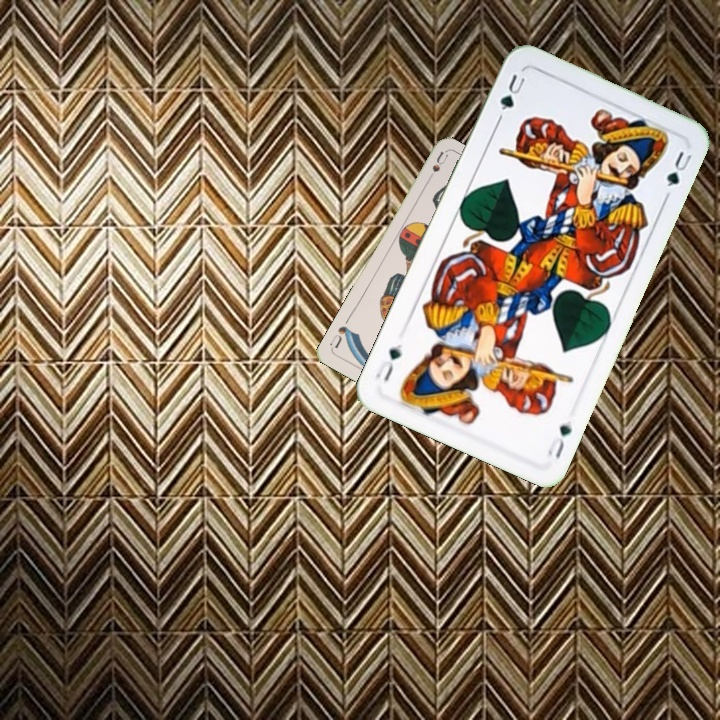GU: (495, 70, 528, 115), (543, 416, 574, 462)
SU: (422, 148, 450, 187)
